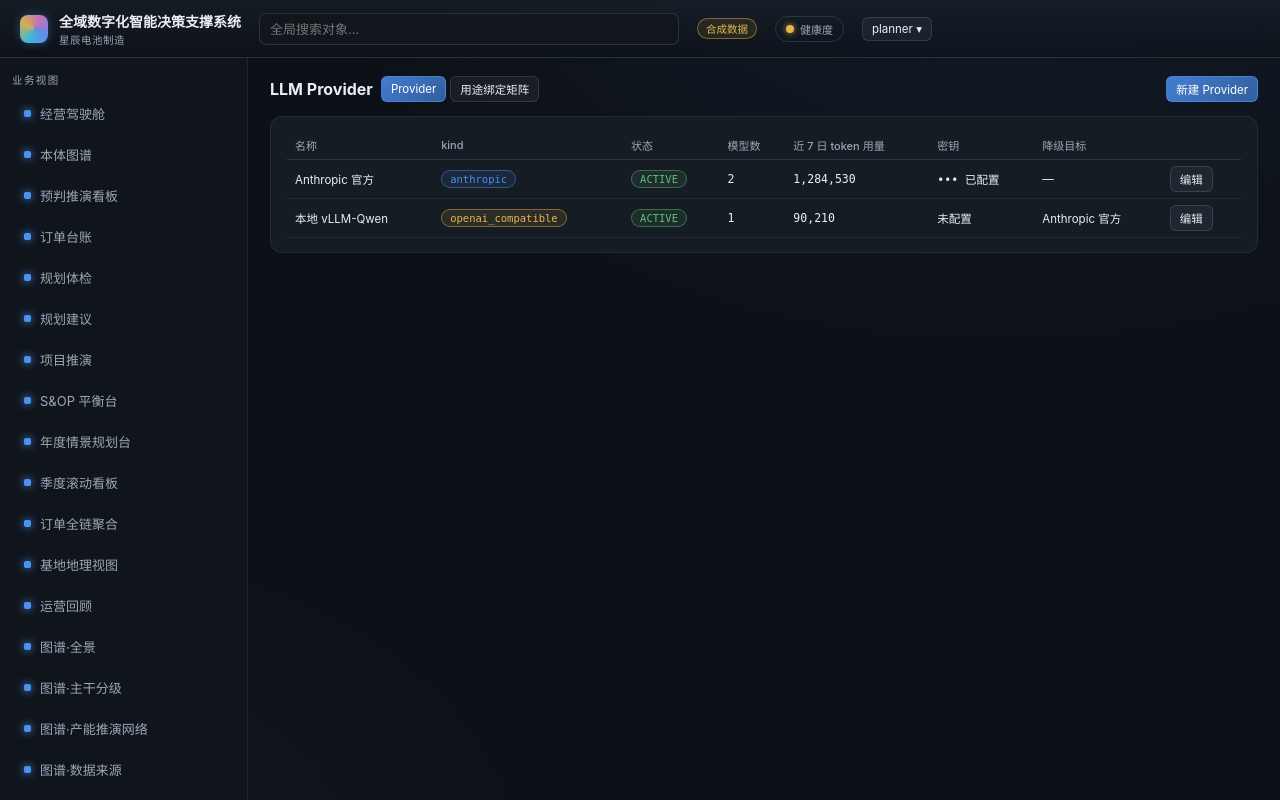
Test case: F36 · /admin/llm-providers（LLM Provider 增量 §1.4） › classifier 绑定无 structuredOutput 模型 → 保存成功并提示 JSON-mode 降级
expect the row with test id "provider-llmp-anthropic" is shown: met, box [287,160,1241,198]
Click the button with test id "tab-bindings" at (495, 89), box [450,76,539,102]
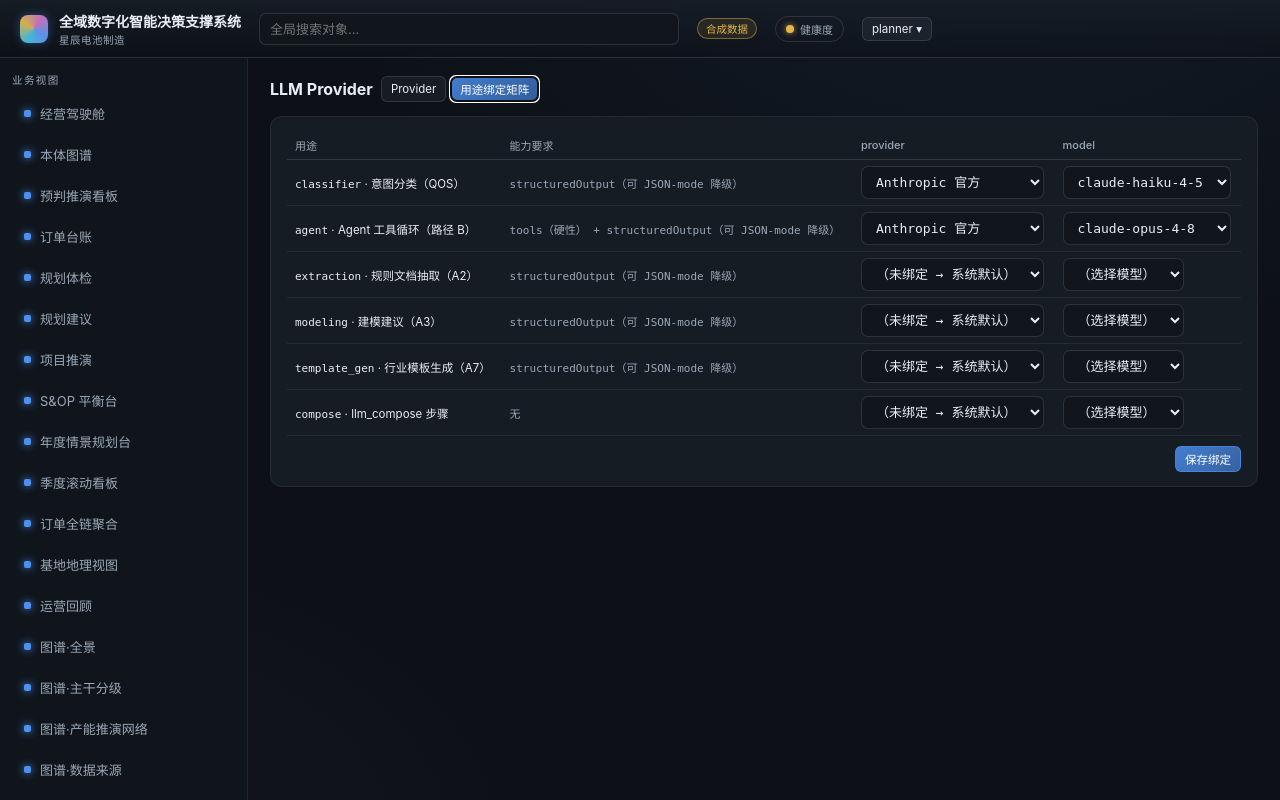
expect the element with test id "binding-matrix" is shown: met, box [270,116,1258,487]
Select "本地 vLLM-Qwen" in the dropdown with test id "binding-provider-classifier" at (952, 182), box [861,166,1044,199]
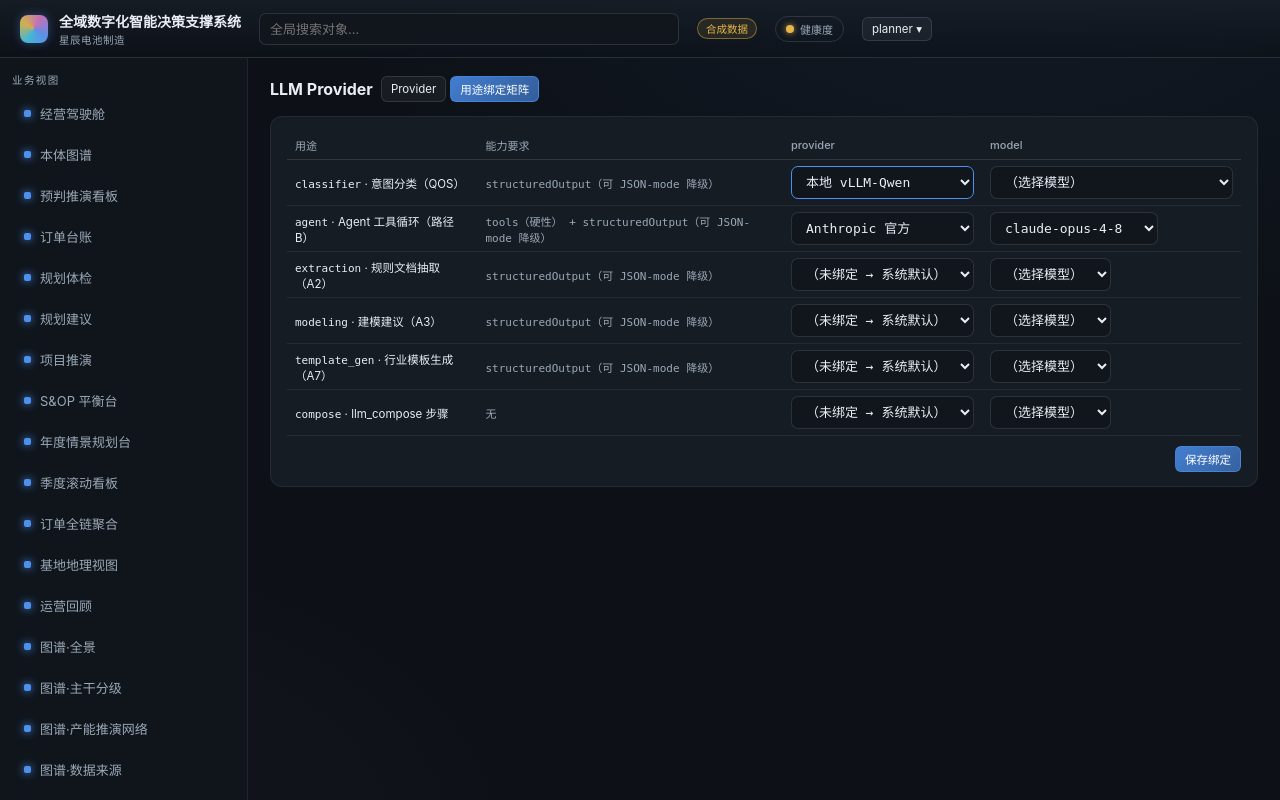
Select "qwen3-72b（JSON-mode 降级）" in the dropdown with test id "binding-model-classifier" at (1112, 182), box [990,166,1233,199]
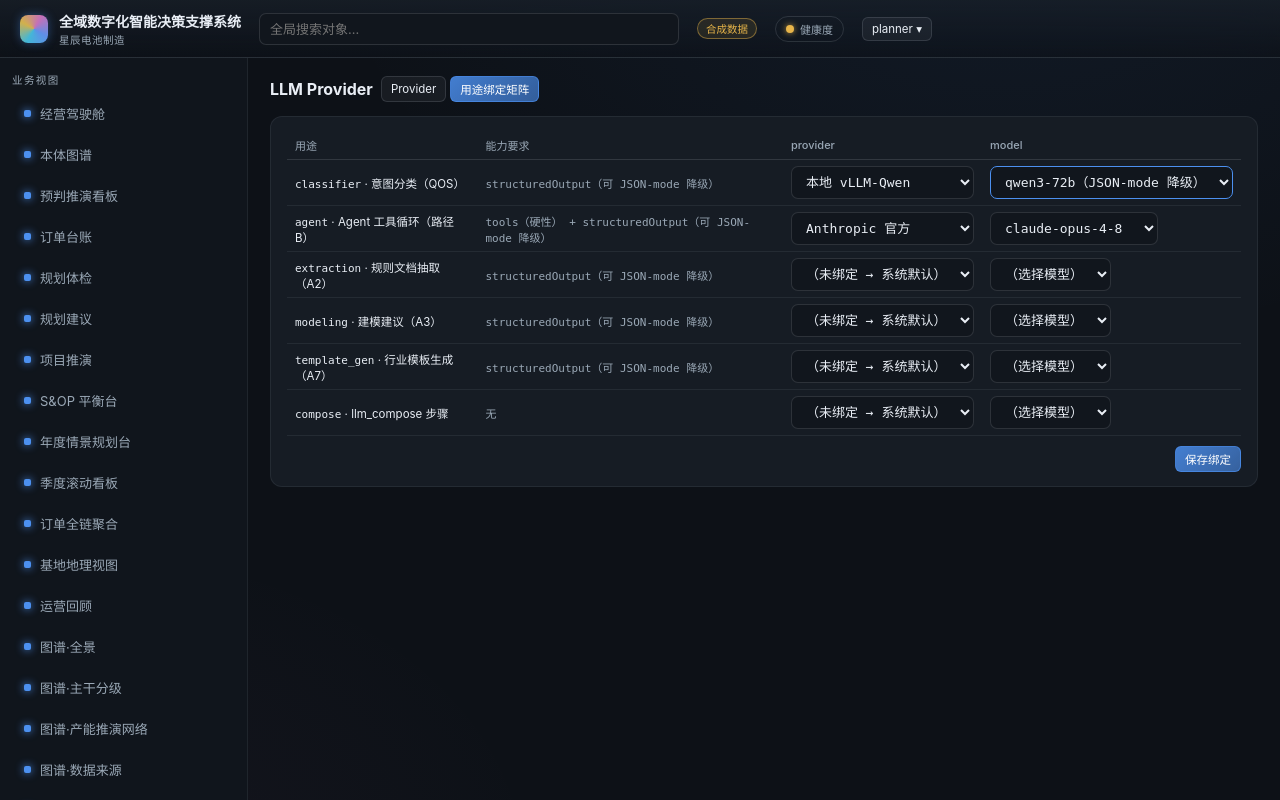
Click the button with test id "binding-save" at (1208, 459), box [1175,446,1241,472]
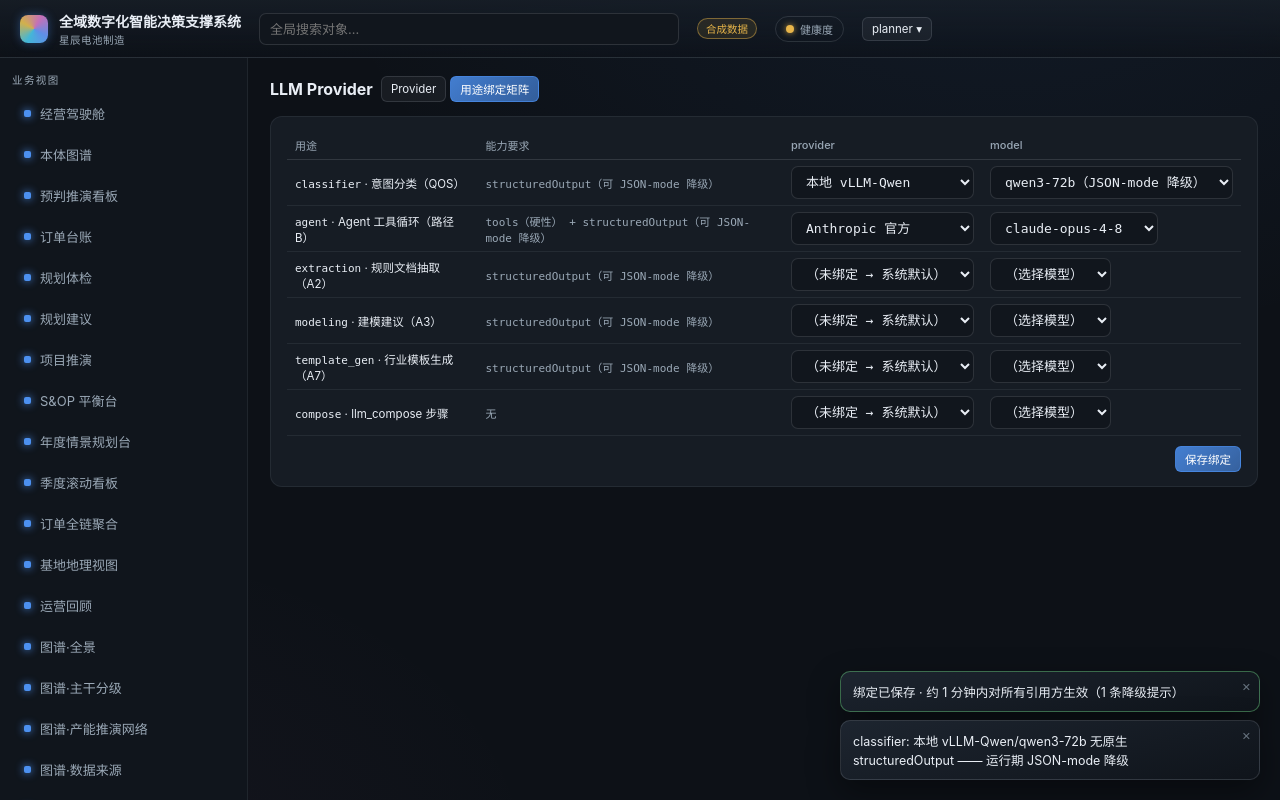
expect the text "绑定已保存 · 约 1 分钟内对所有引用方生效（1 条降级提示）" is shown: met, box [853,682,1184,701]
